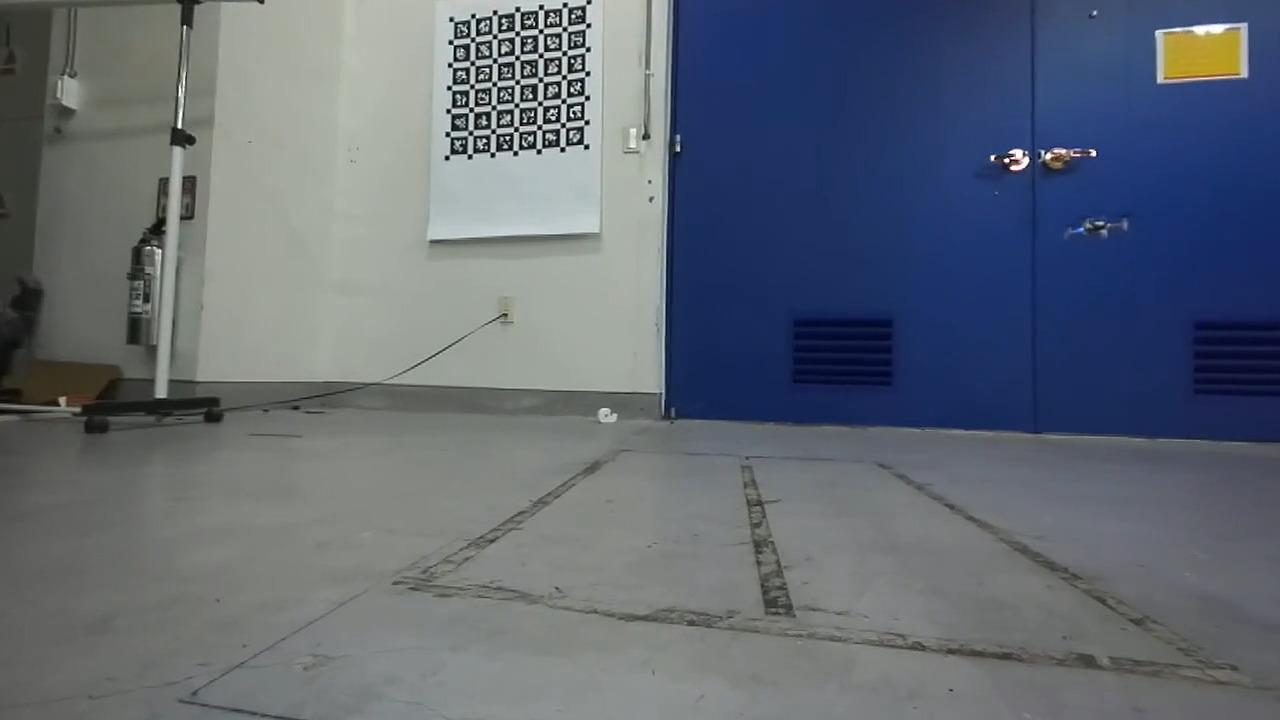crazyflie: (1058, 211, 1136, 244)
